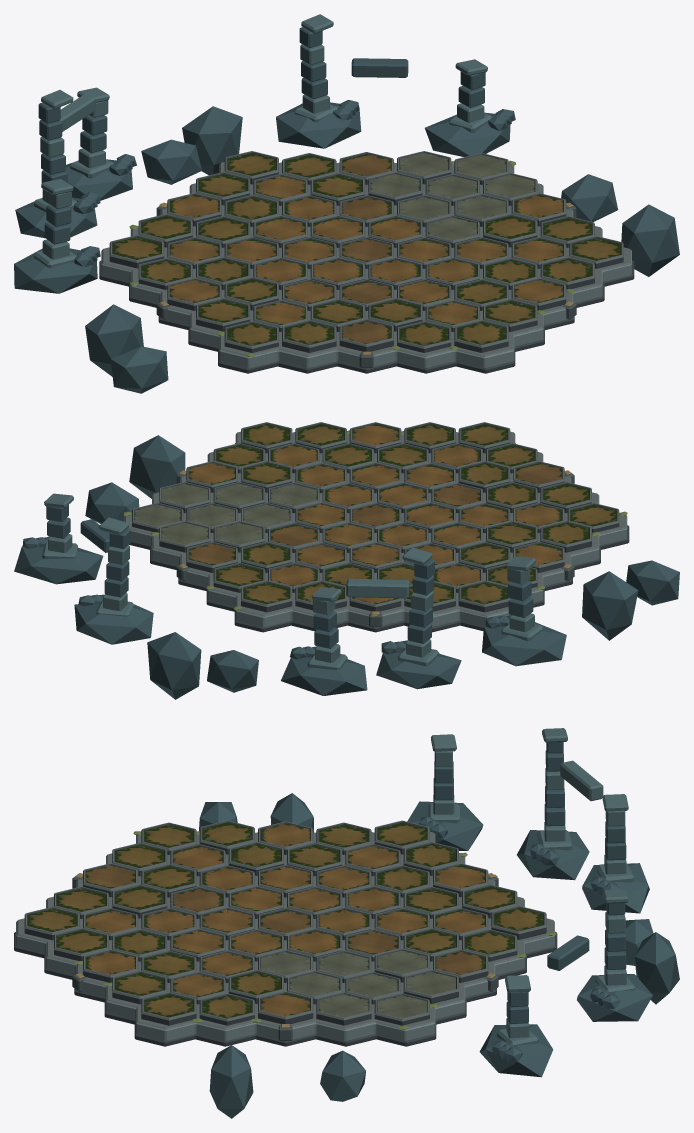
Rendered from Arena_Hexagonal.glb.
3 renders of one model, top to bottom at view 1: azimuth 30°, elevation 25°; view 2: azimuth 150°, elevation 25°; view 3: azimuth 270°, elevation 25°, orthographic. The views are drawn at different scales.
Parts seen in each view (by area): view 1: Arena_Background, Arena_Foundation, Hex_q-2_r-2, Hex_q-3_r-1, Hex_q+0_r-4, Hex_q-4_r+4, Hex_q-4_r+0, Hex_q-1_r-3, Hex_q-4_r+1, Hex_q+2_r-4, Hex_q+1_r-4, Hex_q+4_r-4 (+52 smaller); view 2: Arena_Background, Arena_Foundation, Hex_q+0_r+4, Hex_q-4_r+4, Hex_q-4_r+1, Hex_q+3_r+1, Hex_q+2_r+2, Hex_q-1_r-2, Hex_q+0_r-4, Hex_q+2_r-4, Hex_q+3_r-1, Hex_q+2_r+1 (+52 smaller); view 3: Arena_Background, Arena_Foundation, Hex_q+4_r-2, Hex_q+4_r-1, Hex_q+4_r-4, Hex_q+4_r+0, Hex_q+4_r-3, Hex_q+3_r+1, Hex_q+0_r+4, Hex_q+0_r-4, Hex_q+3_r-4, Hex_q+2_r-4 (+52 smaller).
Part boxes in pixels (bbox=[...]): Arena_Background: bbox=[14, 14, 679, 393]; Arena_Foundation: bbox=[99, 162, 634, 373]; Hex_q-2_r-2: bbox=[339, 319, 393, 351]; Hex_q-3_r-1: bbox=[282, 320, 336, 352]; Hex_q+0_r-4: bbox=[454, 320, 508, 352]; Hex_q-4_r+4: bbox=[109, 235, 164, 268]; Hex_q-4_r+0: bbox=[224, 321, 278, 352]; Hex_q-1_r-3: bbox=[397, 321, 451, 352]; Hex_q-4_r+1: bbox=[196, 298, 250, 331]; Hex_q+2_r-4: bbox=[511, 278, 566, 310]; Hex_q+1_r-4: bbox=[483, 299, 537, 331]; Hex_q+4_r-4: bbox=[569, 236, 623, 268]; Arena_Background: bbox=[14, 435, 679, 699]; Arena_Foundation: bbox=[124, 431, 629, 632]; Hex_q+0_r+4: bbox=[241, 580, 292, 612]; Hex_q-4_r+4: bbox=[458, 580, 510, 612]; Hex_q-4_r+1: bbox=[540, 521, 591, 552]; Hex_q+3_r+1: bbox=[159, 521, 210, 552]; Hex_q+2_r+2: bbox=[186, 541, 237, 572]; Hex_q-1_r-2: bbox=[458, 461, 510, 492]; Hex_q+0_r-4: bbox=[458, 422, 510, 453]; Hex_q+2_r-4: bbox=[349, 422, 401, 453]; Hex_q+3_r-1: bbox=[213, 482, 265, 512]; Hex_q+2_r+1: bbox=[213, 521, 265, 552]; Arena_Background: bbox=[199, 728, 679, 1118]; Arena_Foundation: bbox=[14, 831, 557, 1046]; Hex_q+4_r-2: bbox=[258, 991, 313, 1024]; Hex_q+4_r-1: bbox=[316, 992, 371, 1025]; Hex_q+4_r-4: bbox=[141, 992, 196, 1025]; Hex_q+4_r+0: bbox=[374, 993, 429, 1025]; Hex_q+4_r-3: bbox=[199, 993, 254, 1025]; Hex_q+3_r+1: bbox=[403, 970, 458, 1003]; Hex_q+0_r+4: bbox=[491, 906, 546, 939]; Hex_q+0_r-4: bbox=[24, 906, 79, 940]; Hex_q+3_r-4: bbox=[112, 971, 167, 1004]; Hex_q+2_r-4: bbox=[83, 949, 138, 982].
Bounding box in the file's own units: 19.76 × 5.67 × 19.78.
Materials: 9 (1 with a texture image).
